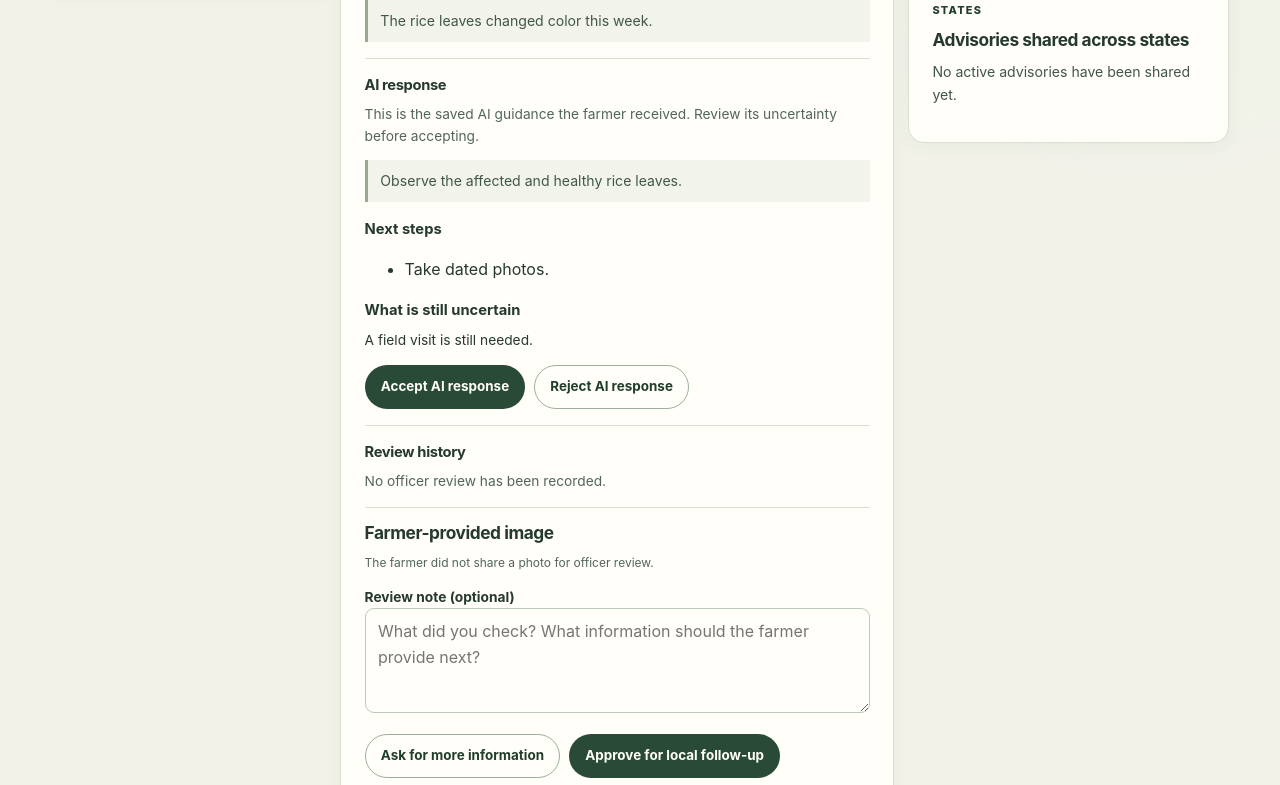
Scenario: OfficerWorkspace review controls › records rejected AI review without publishing and requires a replacement for rejection
(page scrolled)
Expected: the text "Observe the affected and healthy rice leaves." is shown, [365,160,870,202]
Expected: the list item "Take dated photos." is shown, [405,259,549,279]
Click the button "Reject AI response" at (612, 386), box [534,364,689,408]
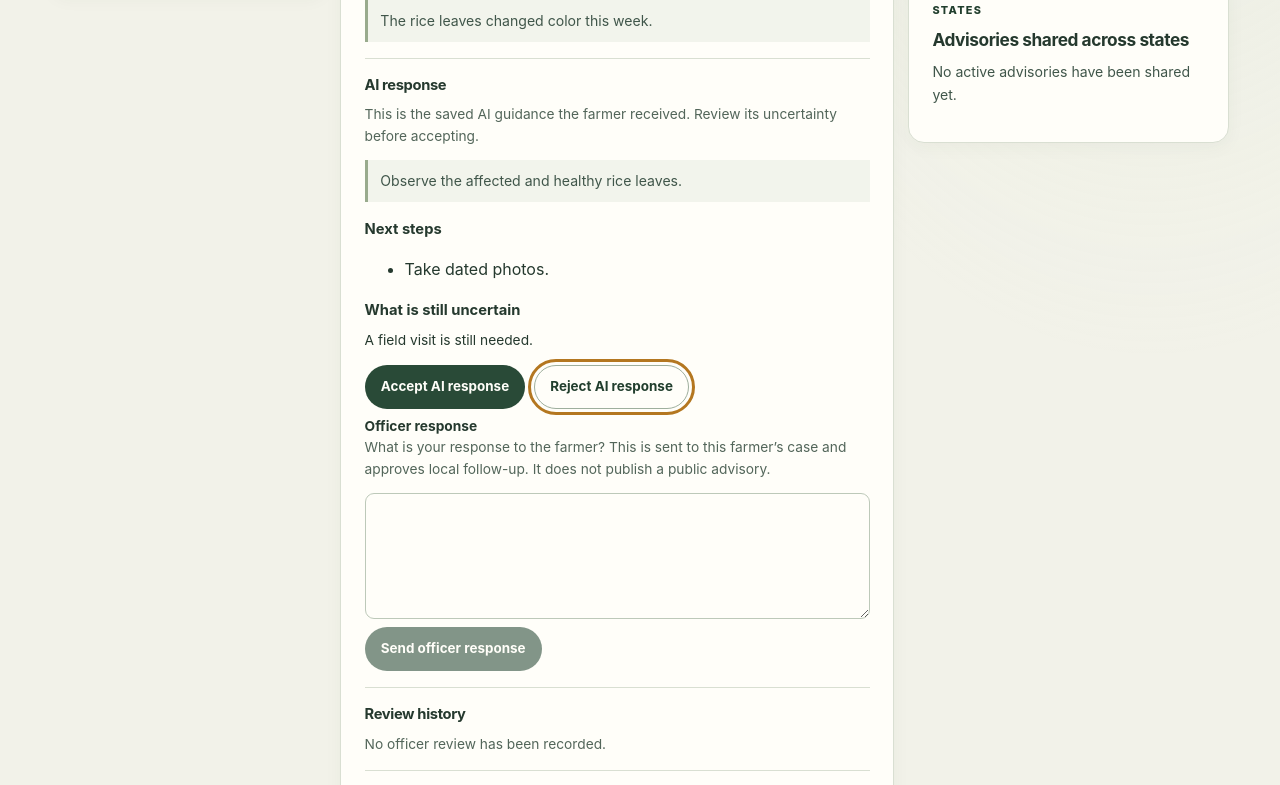
Now the button "Send officer response" is disabled, box [365,627,542,671]
Type "Please arrange a local field inspection." into the text box labelled "Officer response" at (617, 556), box [365,493,870,619]
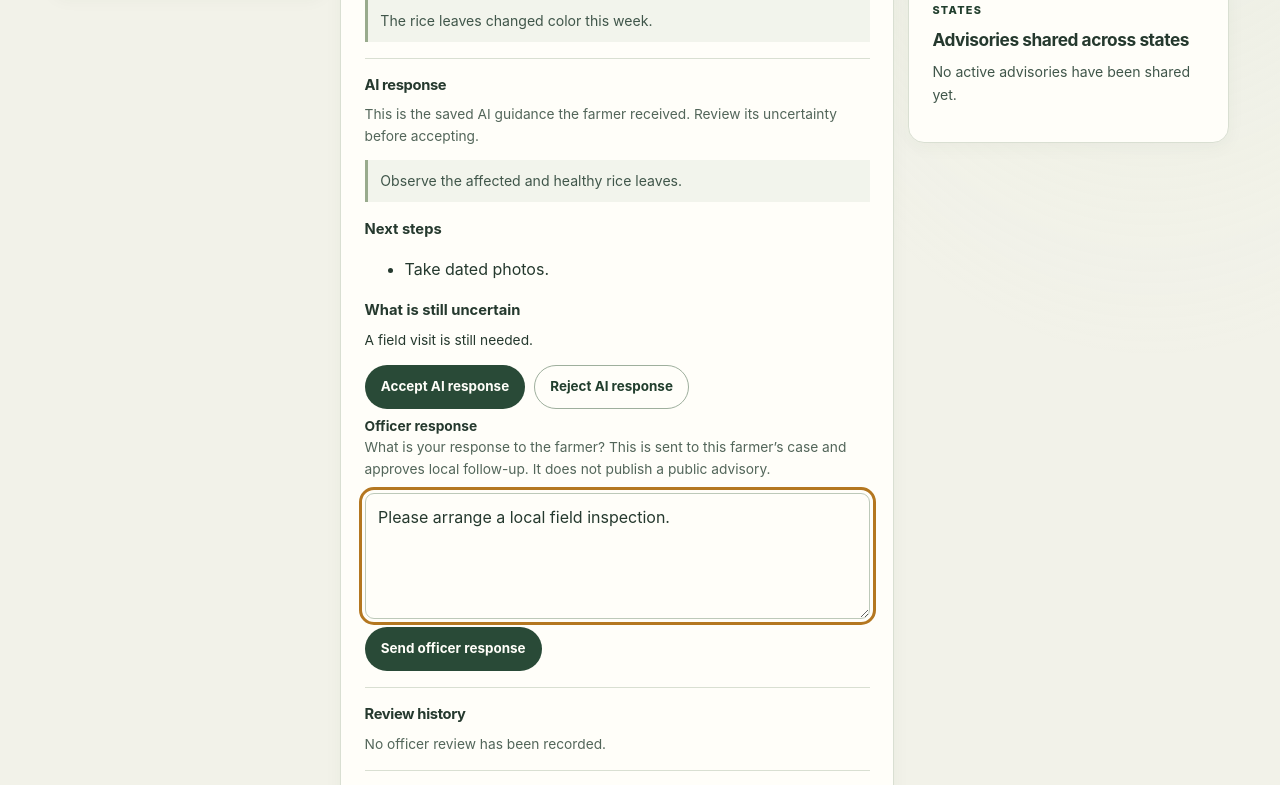
Click the button "Send officer response" at (453, 649), box [365,627,542,671]
(page scrolled)
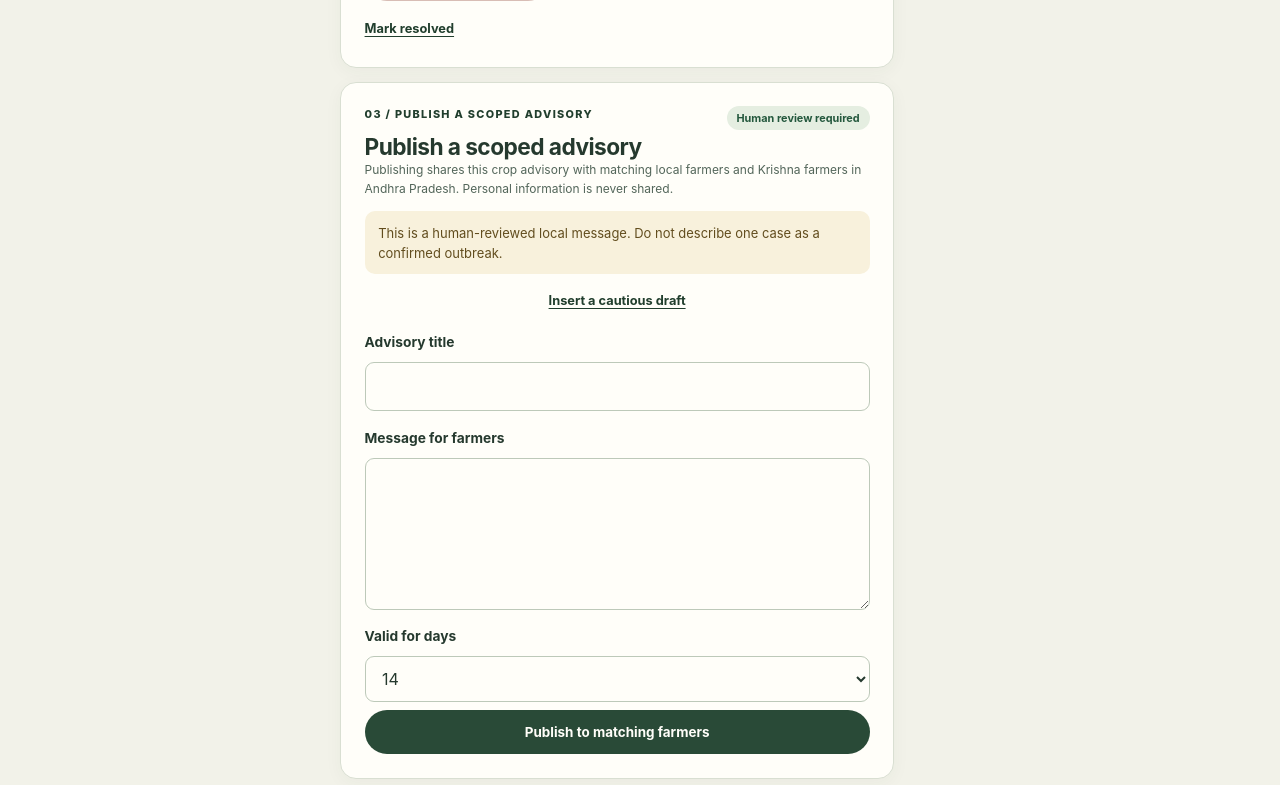
Now the field labelled "Advisory title" is shown, box [365,362,870,411]
